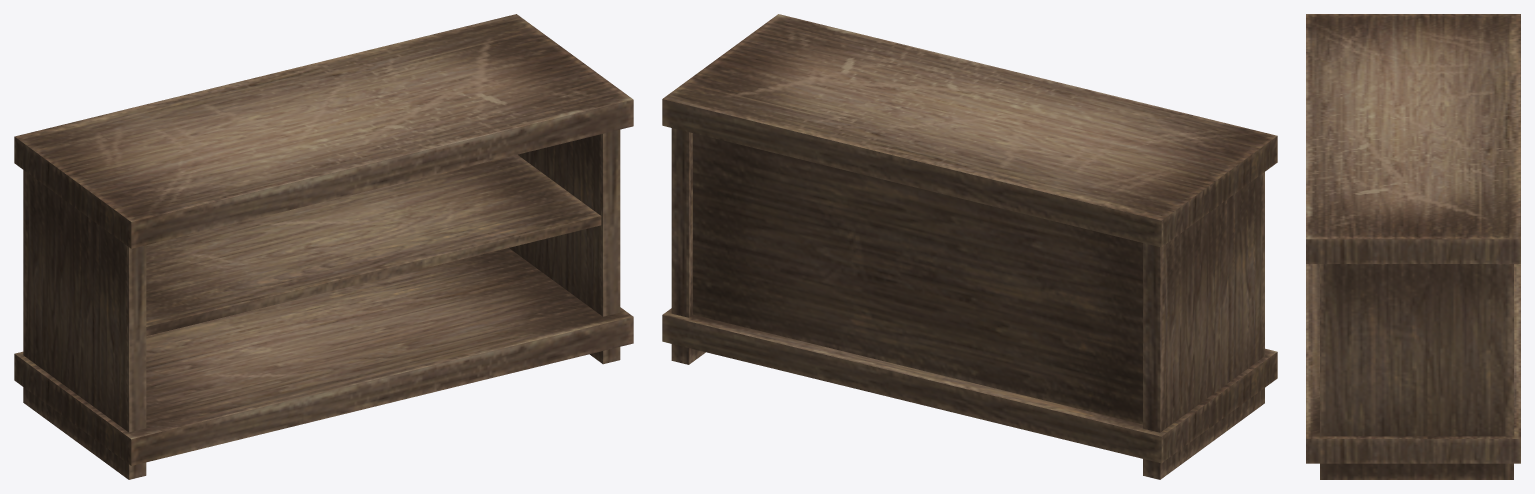
The model's file is Counter.fbx.
3 views of the same model, side by side, from view 1: azimuth 30°, elevation 25°; view 2: azimuth 150°, elevation 25°; view 3: azimuth 270°, elevation 25° (orthographic). The views are drawn at different scales.
Visible parts, largest first — view 1: Counter; view 2: Counter; view 3: Counter.
Boxes of the visible parts, x1,y1,x2,y2 form: Counter: (14, 14, 633, 479); Counter: (662, 14, 1277, 479); Counter: (1306, 14, 1520, 479).
Size of the model in its own units: 158 by 79.56 by 63.68.
